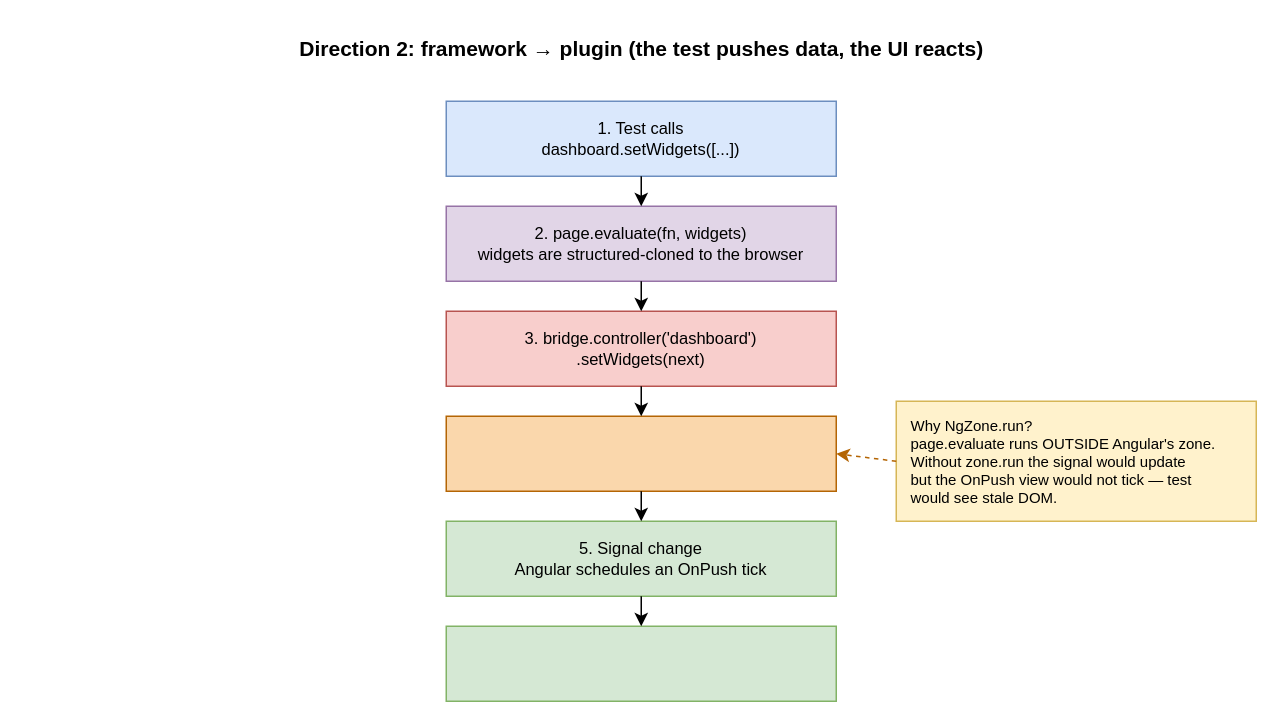
Image size: 1283x728. Some labels were removed from this diagram. Here are the shapes that lost their labels. From the top down, the box of each, then its label:
(445, 415, 836, 491): 4. mock.setWidgets wraps in NgZone.run(() ⇒ _widgets.set(next))
(445, 625, 836, 701): 6. Plugin re-renders Test sees new DOM via locators
